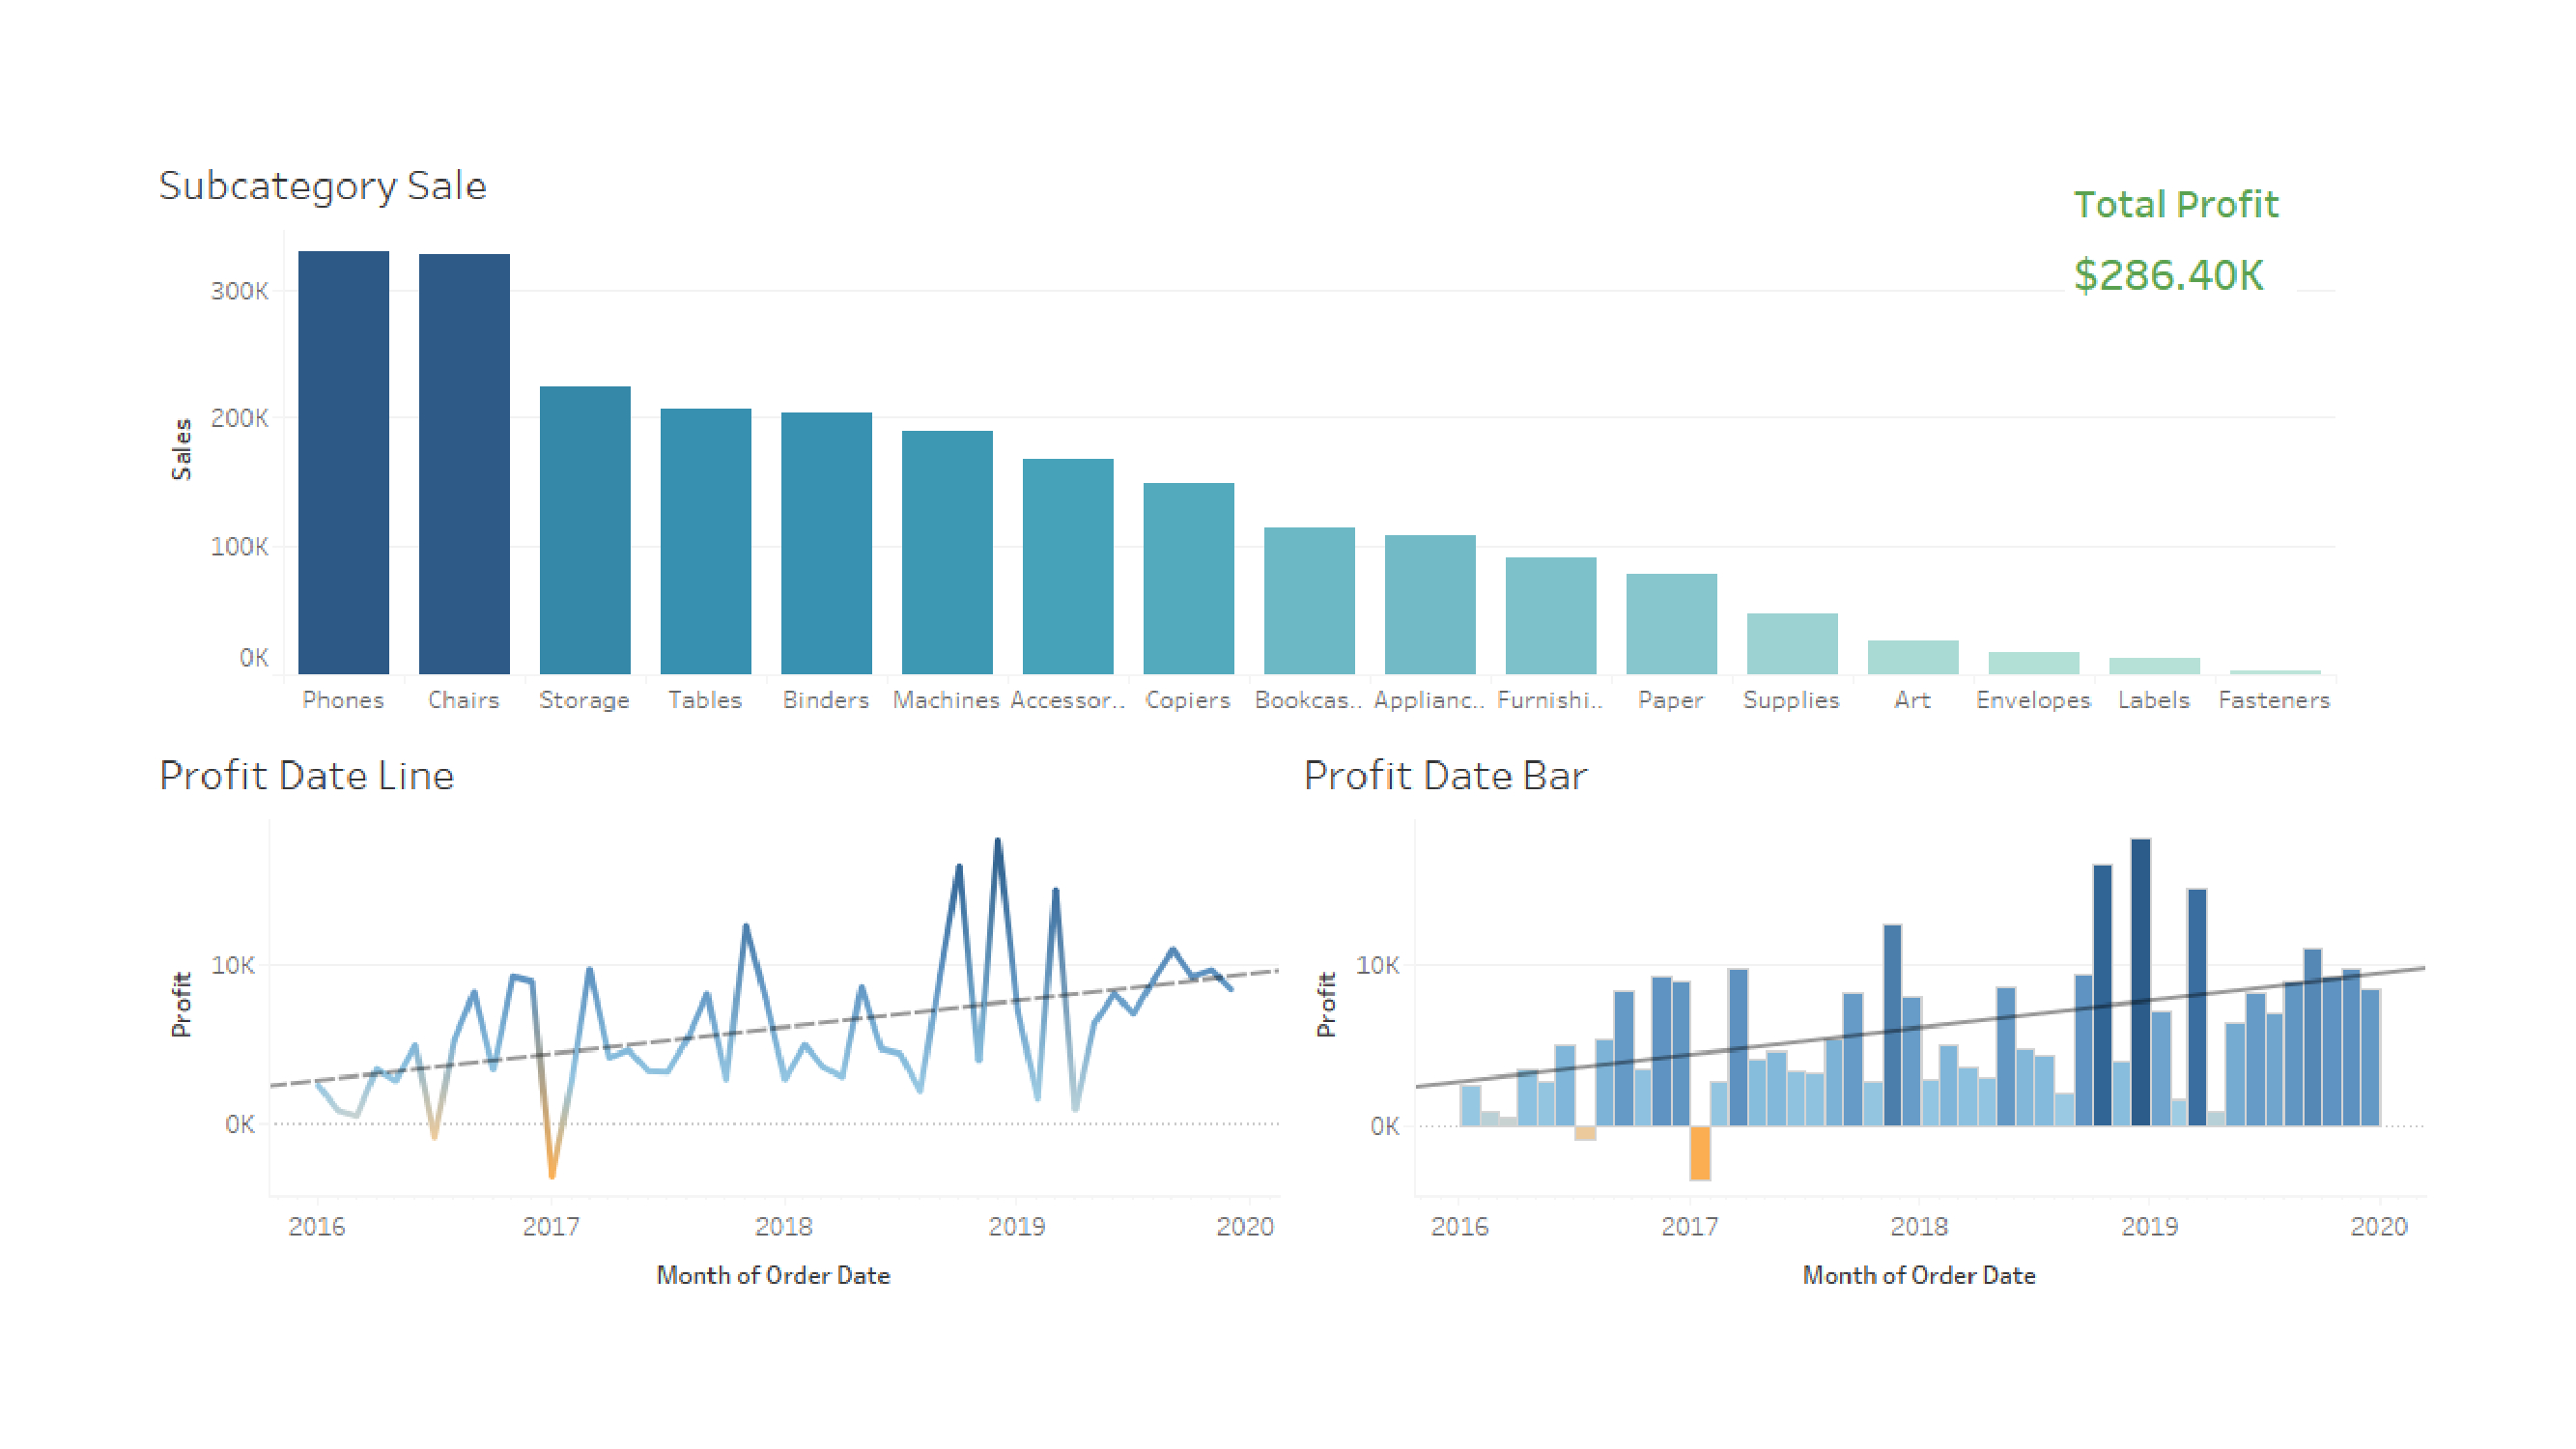

What the dashboard file says about the page in this screenshot:
{"tool":"tableau","page":{"name":"Dash Profit Over Time","canvas":[1000,1000],"units":"permille","ordinal":1},"visuals":[{"type":"worksheet","title":"Subcategory Sale","mark":"Automatic","rows":["Sales"],"cols":["Sub-Category"],"box":[6.9,13.3,986.1,486.7]},{"type":"worksheet","title":"Total Profit","mark":"Automatic","box":[834.6,36.5,98.7,116.3]},{"type":"worksheet","title":"Profit Date Line","mark":"Automatic","rows":["Profit"],"cols":["Order Date"],"box":[6.9,500,493.1,486.7]},{"type":"worksheet","title":"Profit Date Bar","mark":"Bar","rows":["Profit"],"cols":["Order Date"],"box":[500,500,493.1,486.7]}]}

Visuals, with their boxes on the dashboard's canvas, which has no fixed pixel size, in thousandths of its width and height (x1, y1, x2, y2). These are canvas units, not pixel positions in the 2576x1449 screenshot, which may show the page scaled, cropped or inside an application window:
"Subcategory Sale" worksheet: (x1=7, y1=13, x2=993, y2=500)
"Total Profit" worksheet: (x1=835, y1=36, x2=933, y2=153)
"Profit Date Line" worksheet: (x1=7, y1=500, x2=500, y2=987)
"Profit Date Bar" worksheet (Bar marks): (x1=500, y1=500, x2=993, y2=987)
